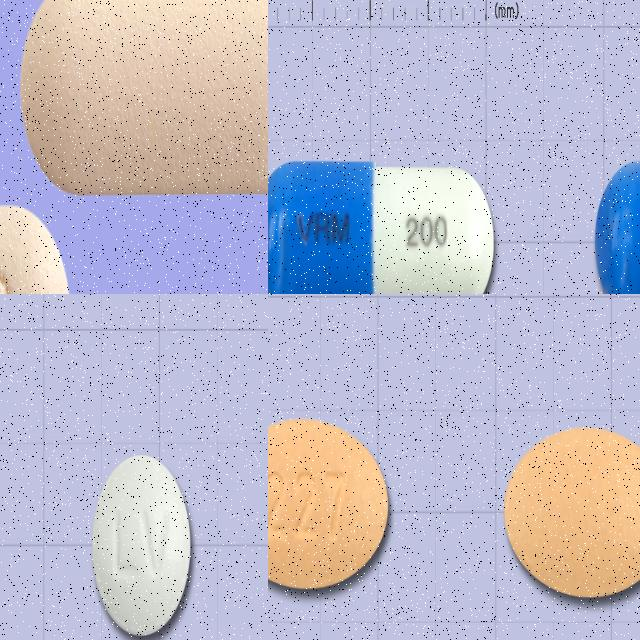Isentress HD: (503, 424, 640, 597), (268, 417, 389, 589)
Levarox: (93, 454, 192, 636)
Levoby: (18, 0, 268, 197)
Viread Tab: (268, 157, 495, 294)
